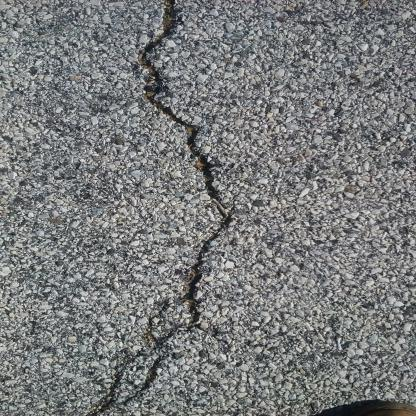Cracks: (84, 0, 240, 415)
